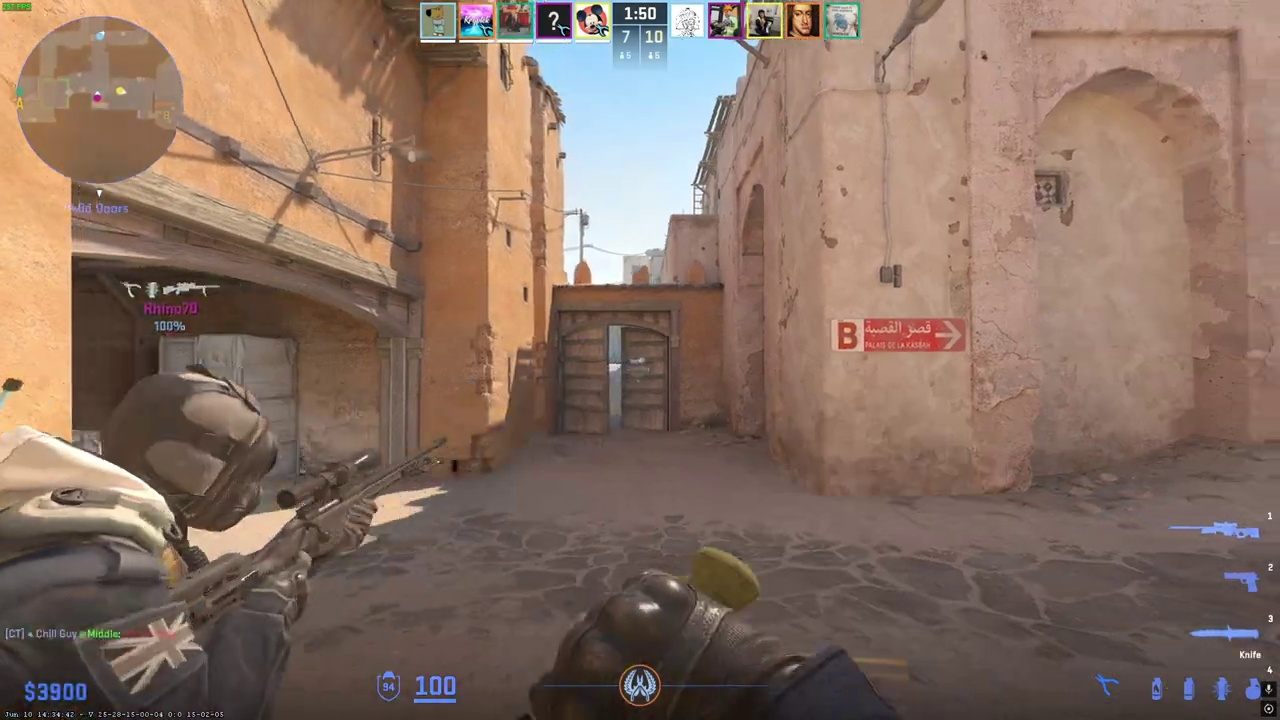CT: (0, 369, 309, 720)
